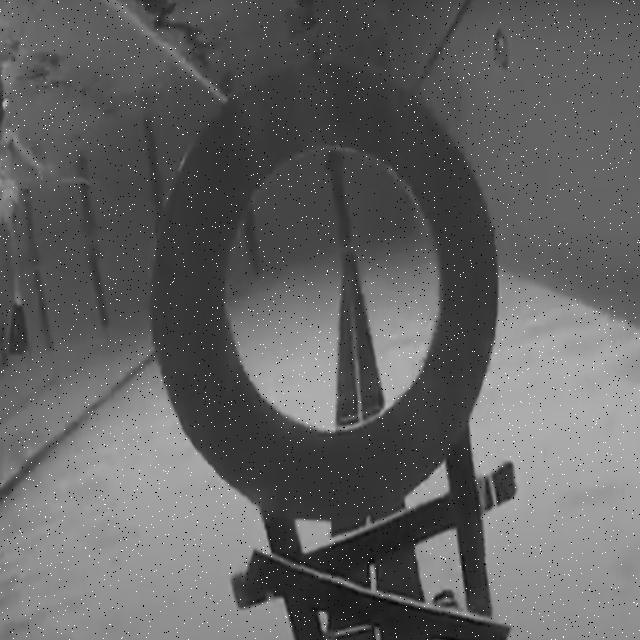Circle: (150, 61, 502, 525)
